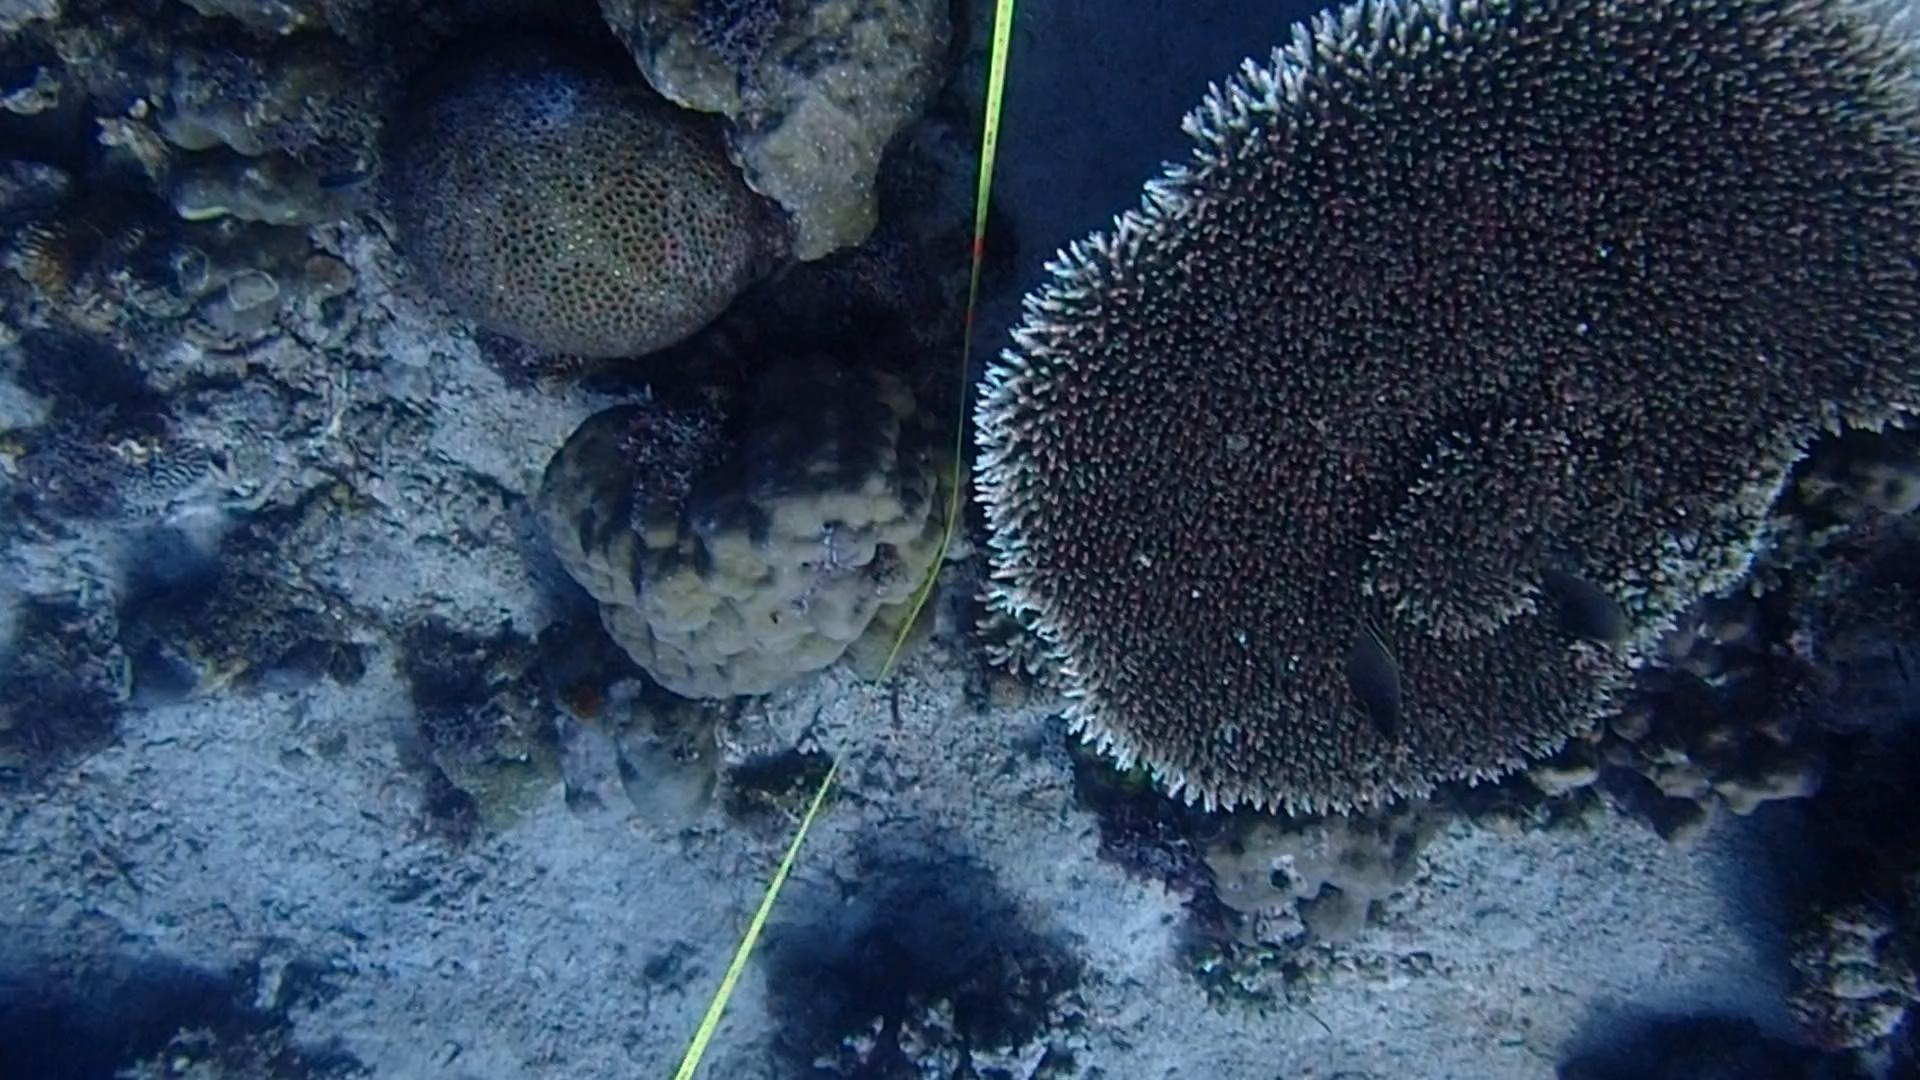Dark Blue Dory: (1333, 608, 1428, 757), (1540, 556, 1652, 659)
Light Fish: (311, 144, 378, 202)
